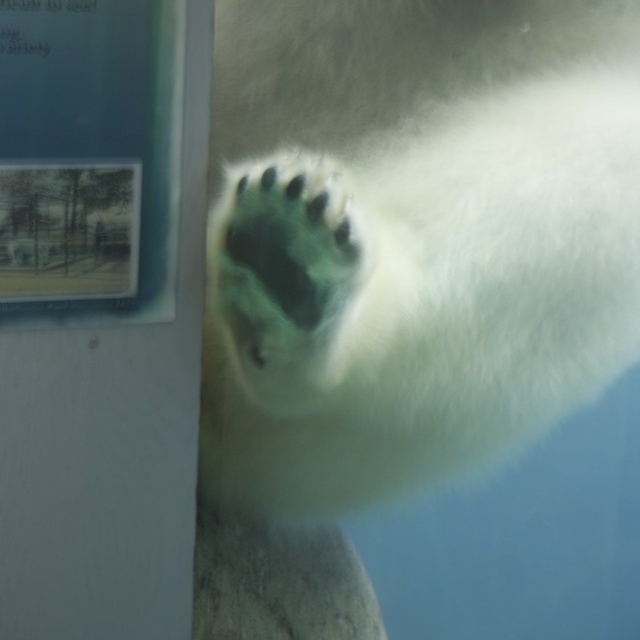Polar bear: (198, 0, 639, 526)
